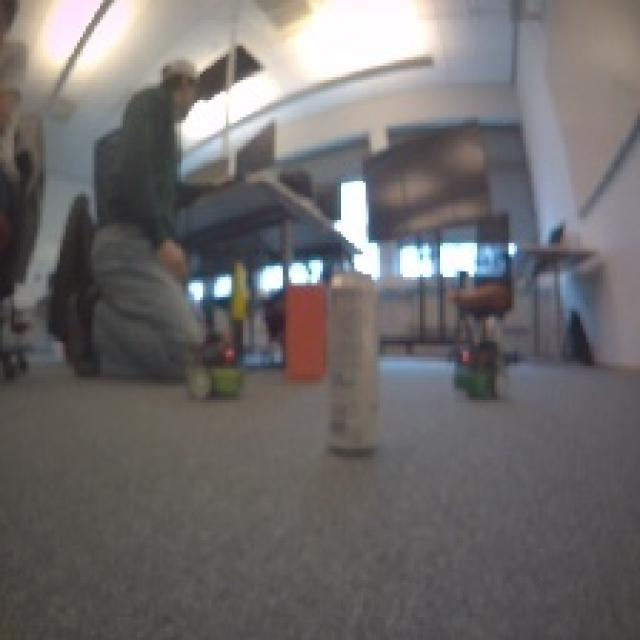robot: (450, 337, 515, 404), (183, 336, 251, 400)
target: (280, 280, 326, 380)
